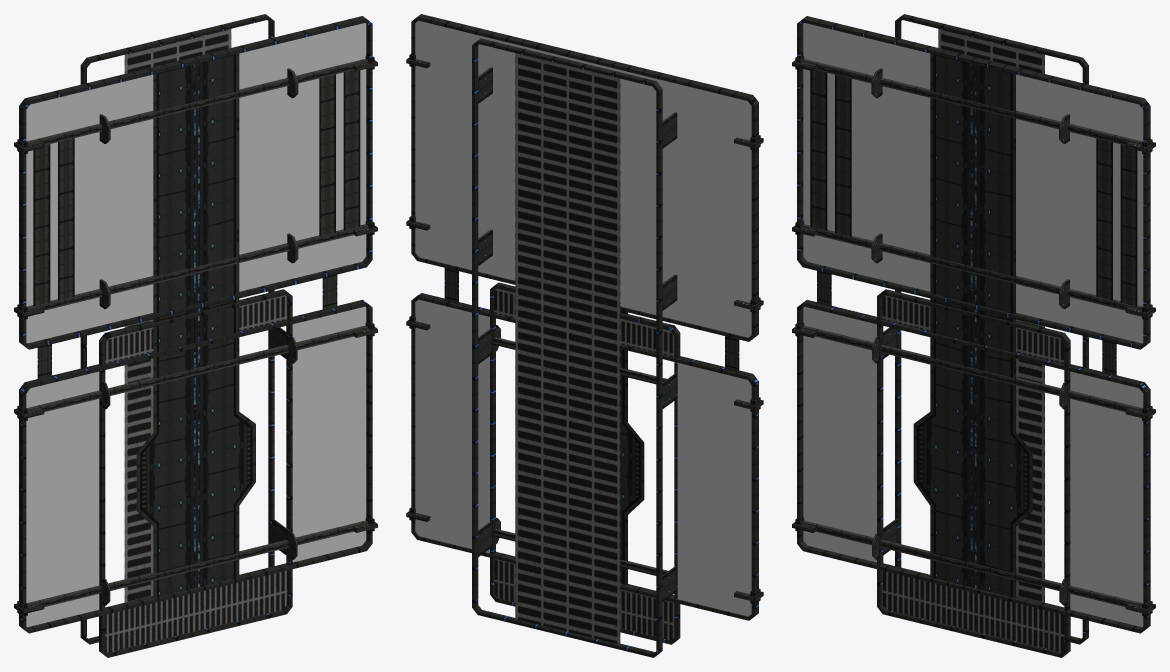
The model's file is Ultra_wire5.fbx.
3 views of the same model, side by side, from view 1: azimuth 30°, elevation 25°; view 2: azimuth 150°, elevation 25°; view 3: azimuth 330°, elevation 25° (orthographic).
Parts seen in each view (by area): view 1: polySurface245; view 2: polySurface245; view 3: polySurface245.
Boxes of the visible parts, box(x1,y1,x2,y2) form: polySurface245: box(14, 14, 377, 657); polySurface245: box(406, 14, 763, 657); polySurface245: box(792, 14, 1155, 657).
Size of the model in its own units: 13.61 by 21.41 by 1.8.
